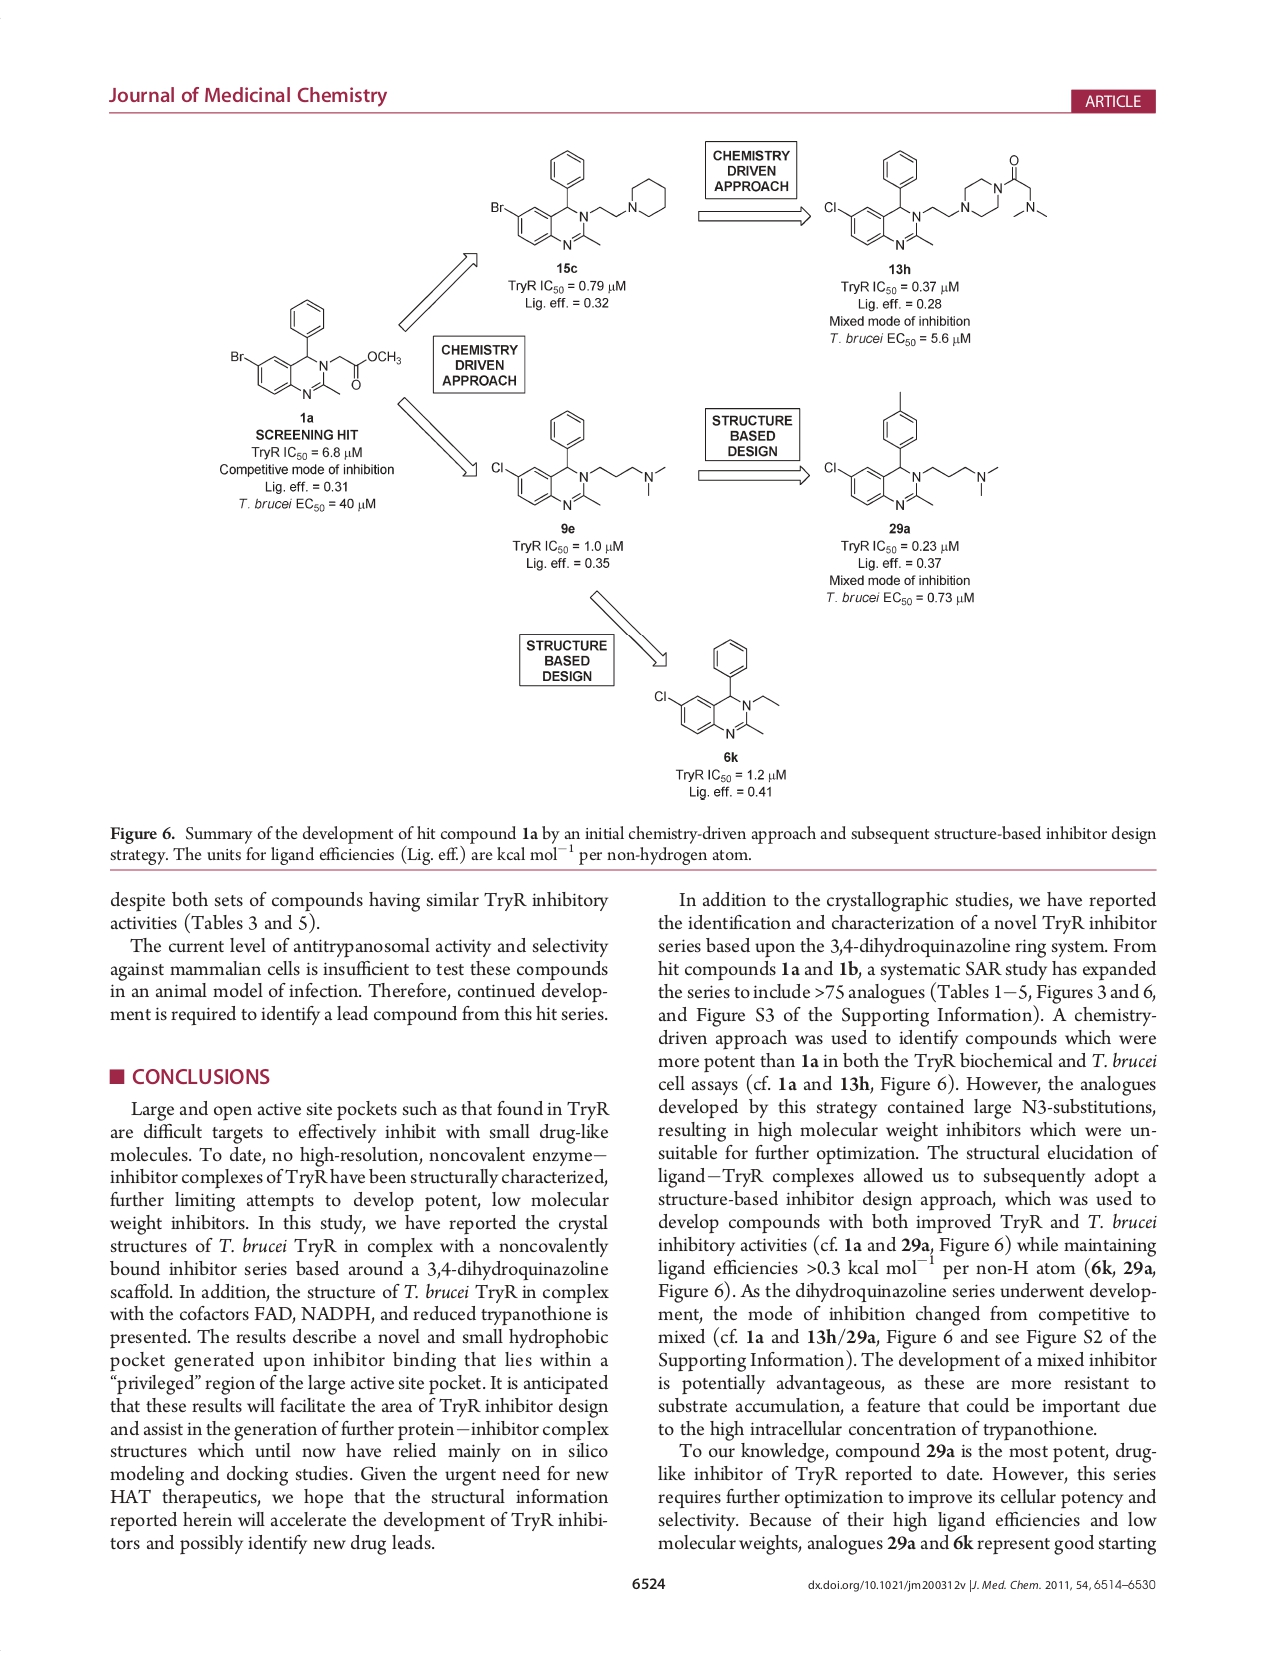exist_molecular: (821, 148, 1051, 253), (821, 388, 1003, 513), (489, 406, 669, 515), (488, 148, 673, 251), (226, 295, 403, 402), (653, 636, 781, 742)
